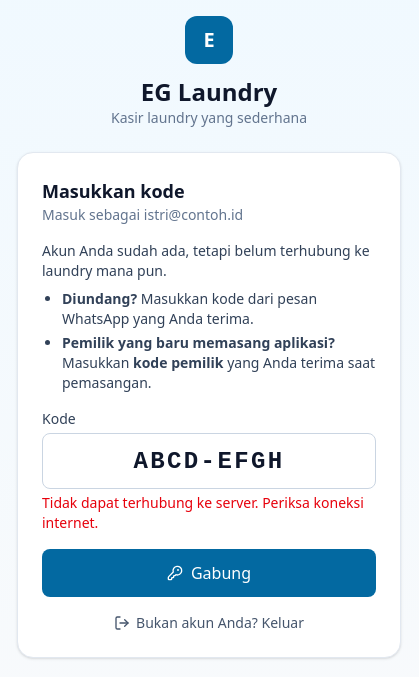
it: JoinOrganization › forgets the link code once the server has answered a manual retry
Expected: the message "Tidak dapat terhubung ke server. Periksa koneksi internet." is shown, [42, 493, 376, 533]
Click the button "Gabung" at (209, 573), box [42, 549, 376, 597]
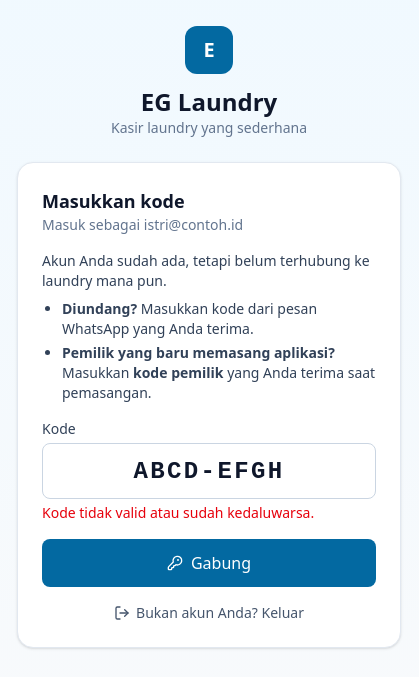
Expected: the message reads "Kode tidak valid atau sudah kedaluwarsa.", [42, 503, 314, 522]
